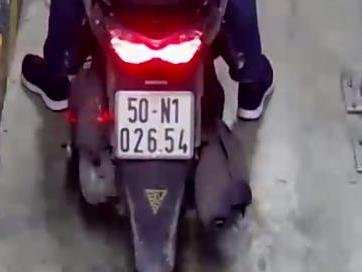num_plate: (113, 90, 196, 161)
